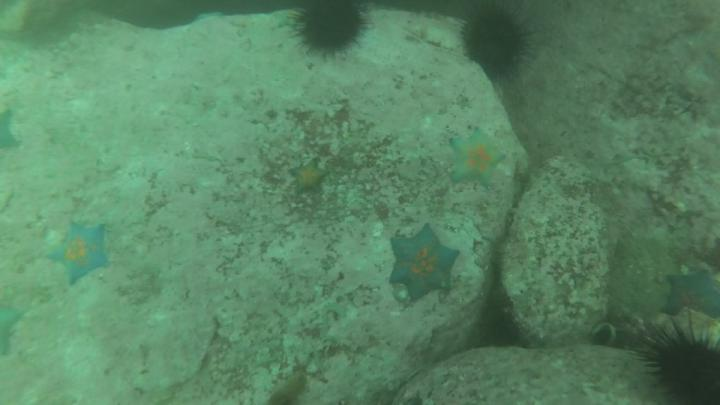echinus: (635, 321, 720, 405), (457, 4, 537, 88), (290, 1, 374, 64)
starfish: (384, 224, 463, 306), (44, 219, 116, 291), (447, 126, 509, 190), (661, 266, 720, 323), (286, 157, 332, 201), (1, 300, 25, 359), (1, 109, 24, 154)
